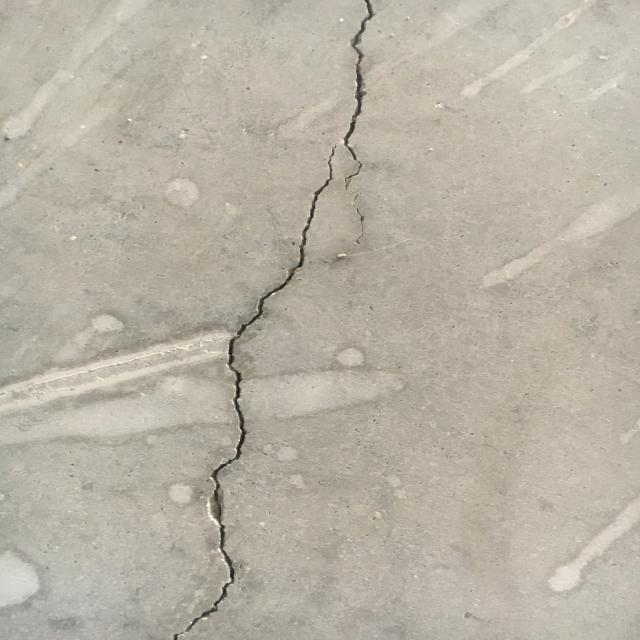SurfaceCrack: (138, 0, 408, 639)
